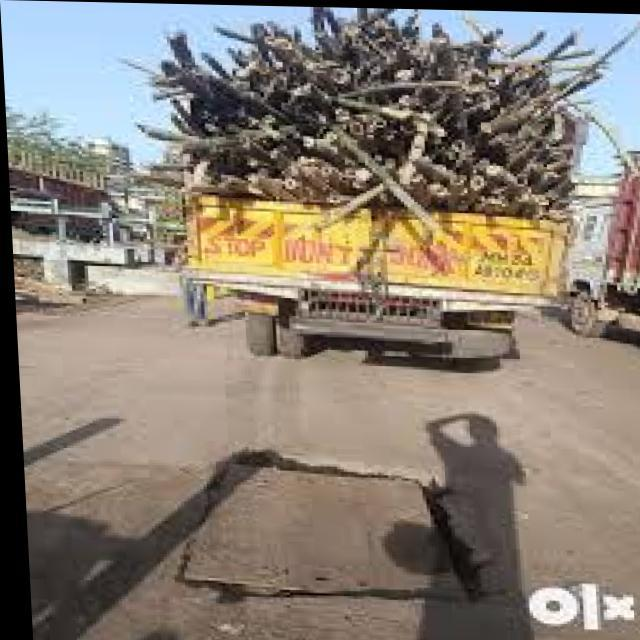uncovered: (142, 2, 586, 363)
